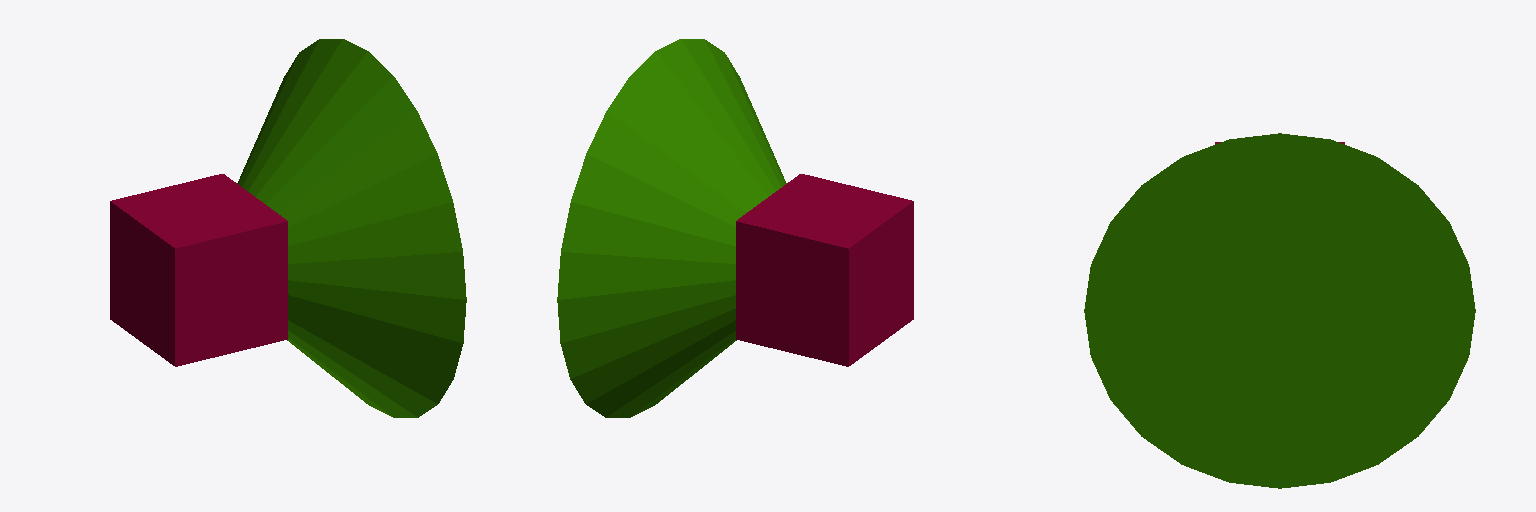
Rendered from light.obj.
The picture shows the model from 3 angles: view 1: azimuth 30°, elevation 25°; view 2: azimuth 150°, elevation 25°; view 3: azimuth 270°, elevation 25°; orthographic projection.
Parts seen in each view (by area): view 1: Cone001, Box001; view 2: Cone001, Box001; view 3: Cone001.
Boxes of the visible parts, <box> form: Cone001: <box>237,39,466,417</box>; Box001: <box>110,174,287,366</box>; Cone001: <box>557,39,786,417</box>; Box001: <box>736,174,913,366</box>; Cone001: <box>1084,133,1475,488</box>.
Size of the model in its own units: 2 by 3 by 3.